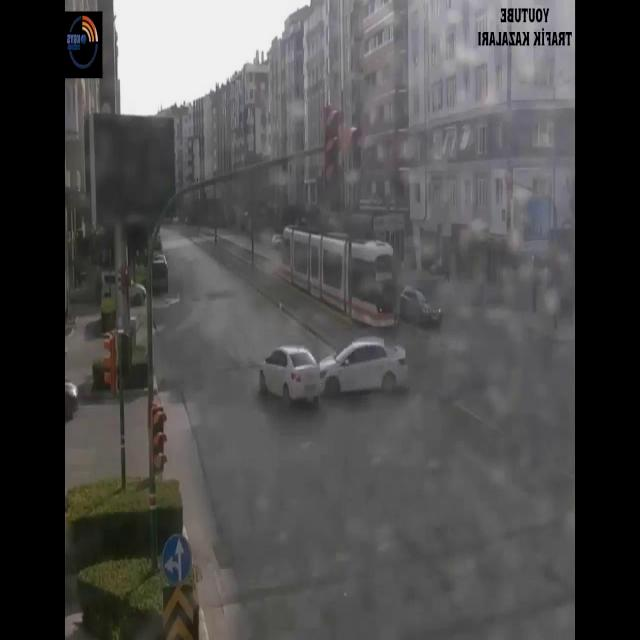accident: (259, 339, 409, 405)
